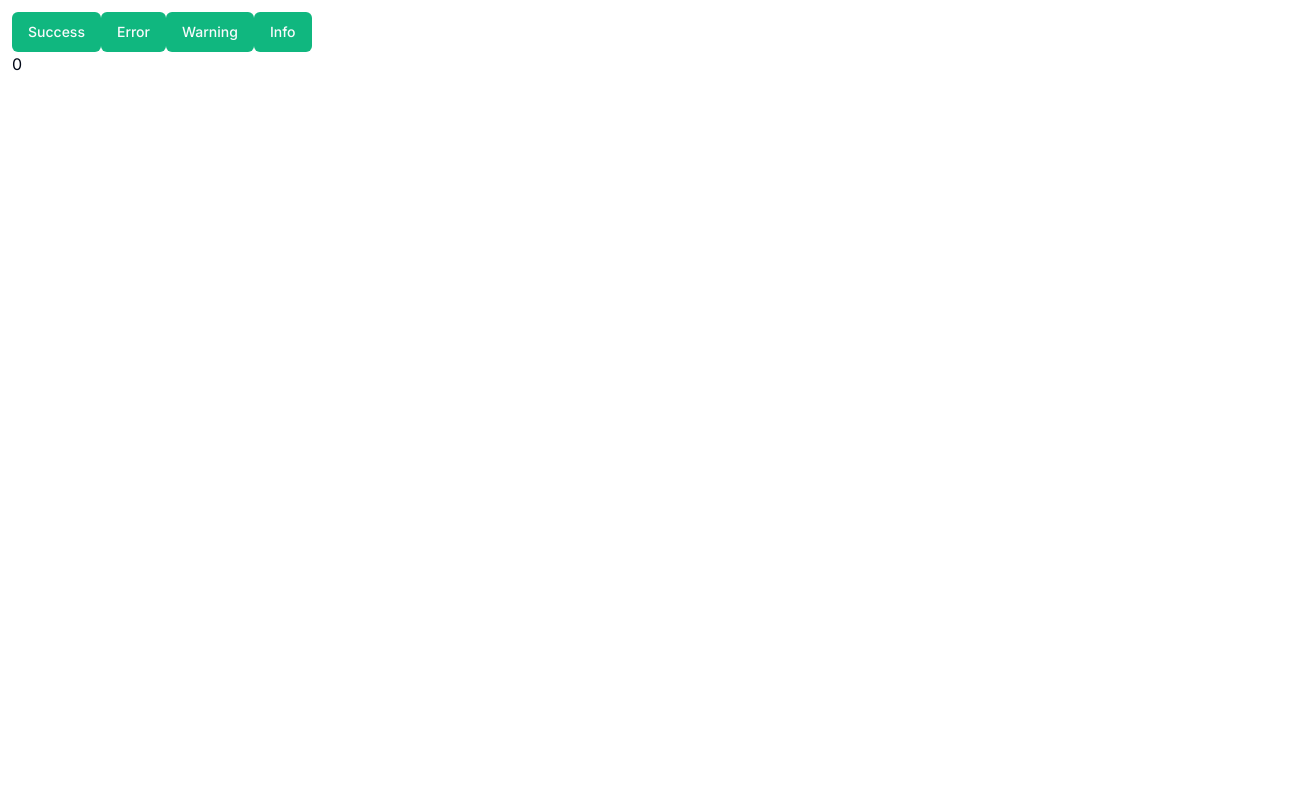
Scenario: Toast › Toast Types › should show error toast
Click the button "Error" at (133, 32), box [101,12,166,52]
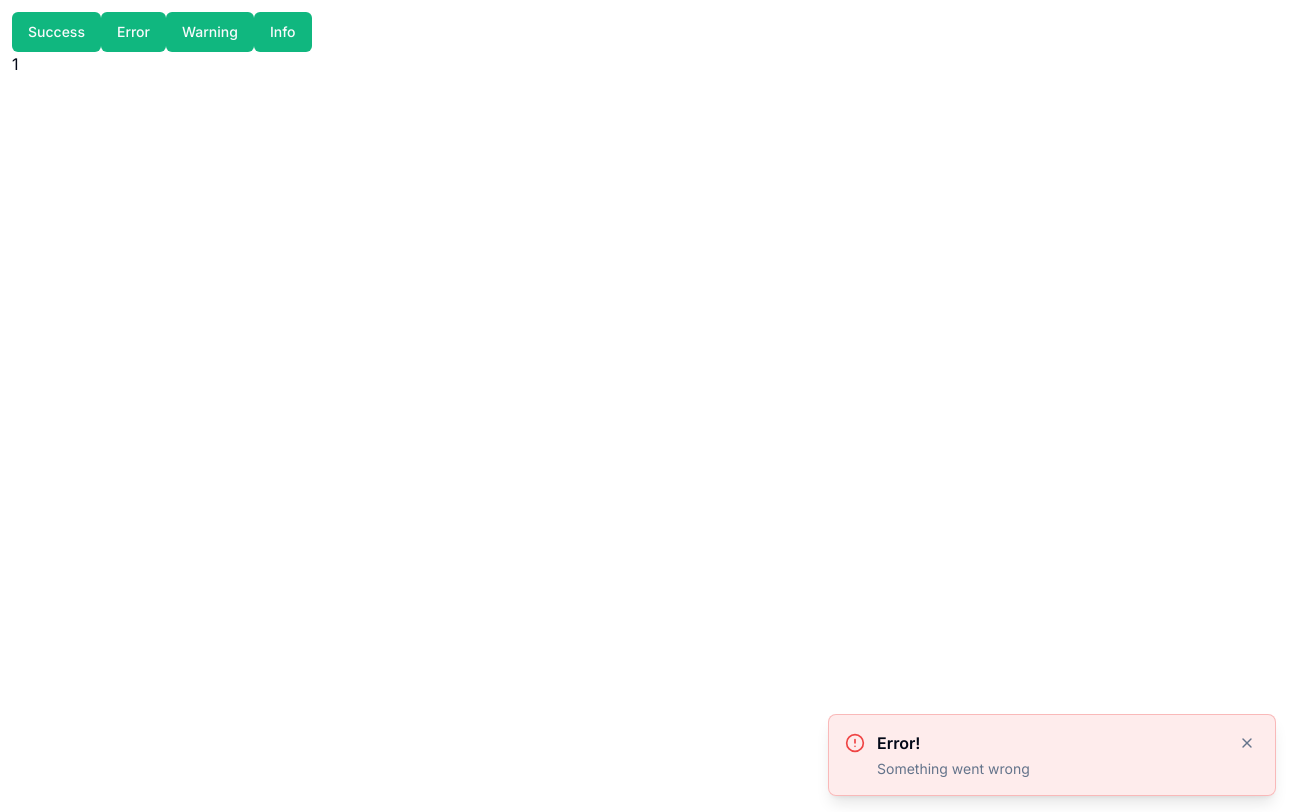
Expected: the text "Error!" is shown, [877,733,920,753]
Expected: the text "Something went wrong" is shown, [877,760,1030,777]
